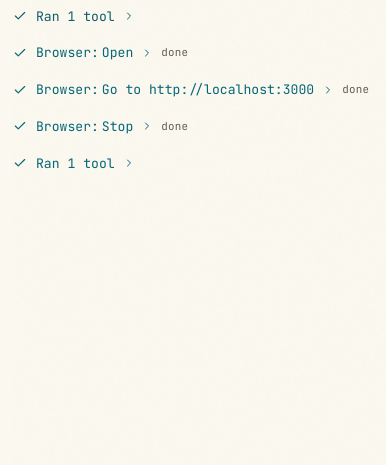
Scenario: ChatToolActivity › keeps browser action rows through completion, preferring result metadata over input
Expected: the heading "Browser: Open done" does not show "opaque-session", [13,43,188,61]
Click the text "Open": (118, 53) [102,42,133,63]
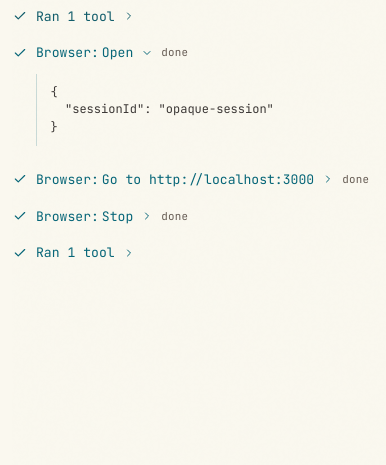
Result: the text "{ \"sessionId\": \"opaque-session\" }" is shown at [51,84,274,135]
Click the text "Go to http://localhost:3000": (208, 179) [102,169,314,190]
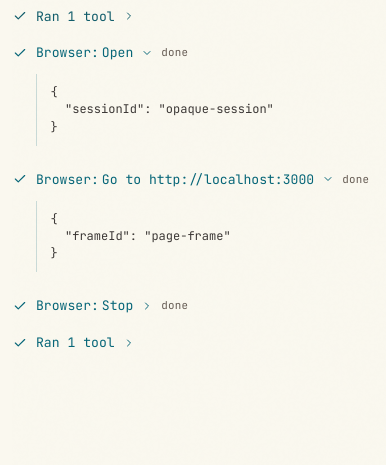
Result: the text "{ \"frameId\": \"page-frame\" }" is shown at [51,210,231,261]
Click the text "Stop": (118, 306) [102,295,133,316]
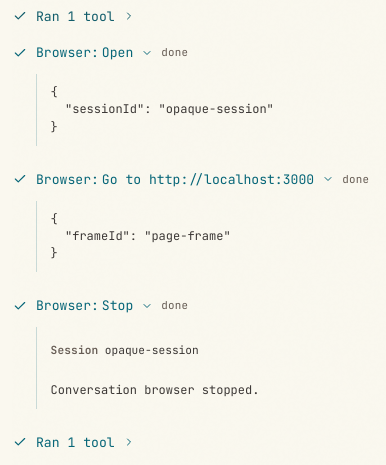
Result: the text "Conversation browser stopped." is shown at [51,382,259,398]
Result: the text "opaque-session" is shown at [105,342,199,359]
